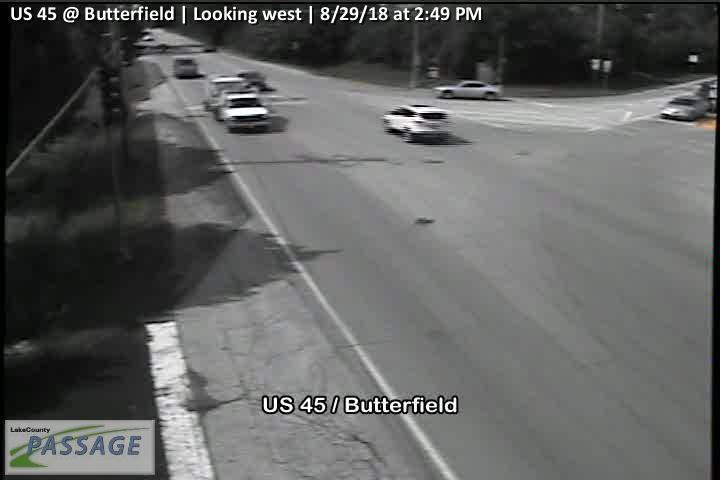SUV: (382, 103, 450, 143), (205, 74, 247, 120), (174, 57, 198, 78)
Sedan: (219, 91, 272, 133), (432, 80, 504, 101), (660, 94, 710, 121)
